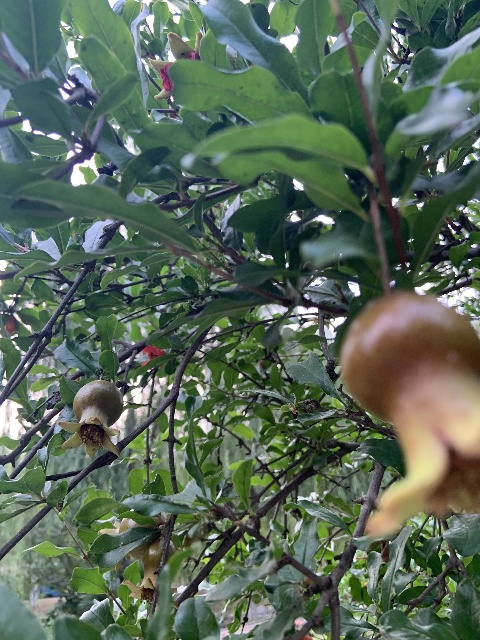early-fruit: (339, 292, 479, 550), (56, 379, 125, 459), (98, 508, 165, 571), (122, 540, 179, 609)
flower: (140, 344, 166, 370)
